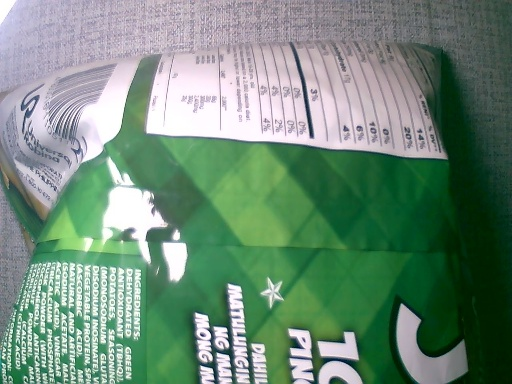plastic: (3, 51, 476, 384)
